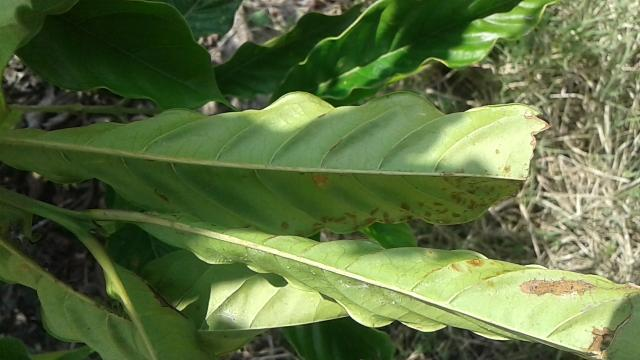rust_level_1: (0, 84, 552, 241)
